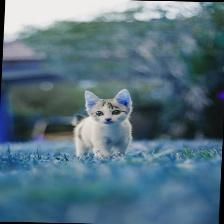kedo: (74, 91, 132, 157)
